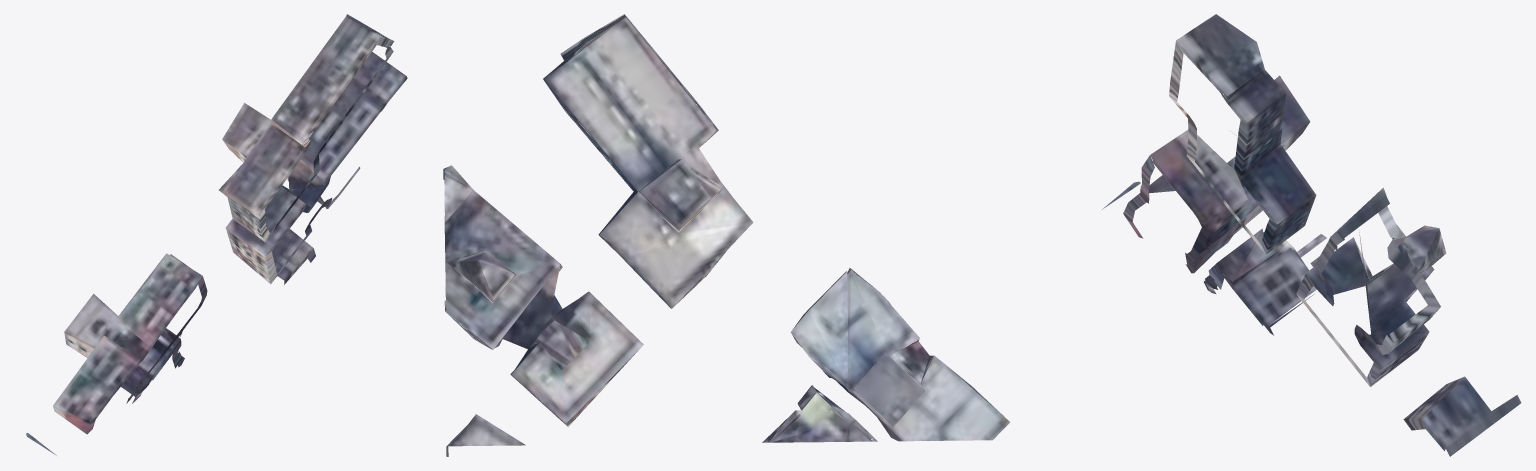
3 renders of one model, left to right at view 1: azimuth 30°, elevation 25°; view 2: azimuth 150°, elevation 25°; view 3: azimuth 270°, elevation 25°, orthographic. The views are drawn at different scales.
Bounding box in the file's own units: 107 × 71.82 × 67.51.
Materials: 1 (1 with a texture image).
